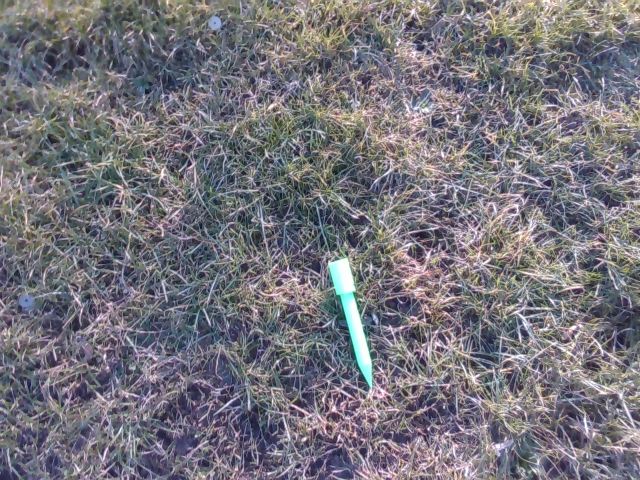Probe: (326, 254, 377, 396)
